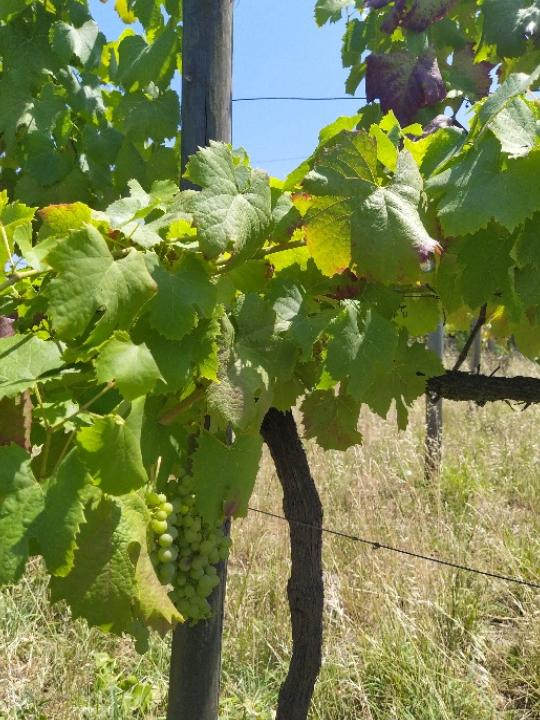grape: (146, 475, 239, 625)
